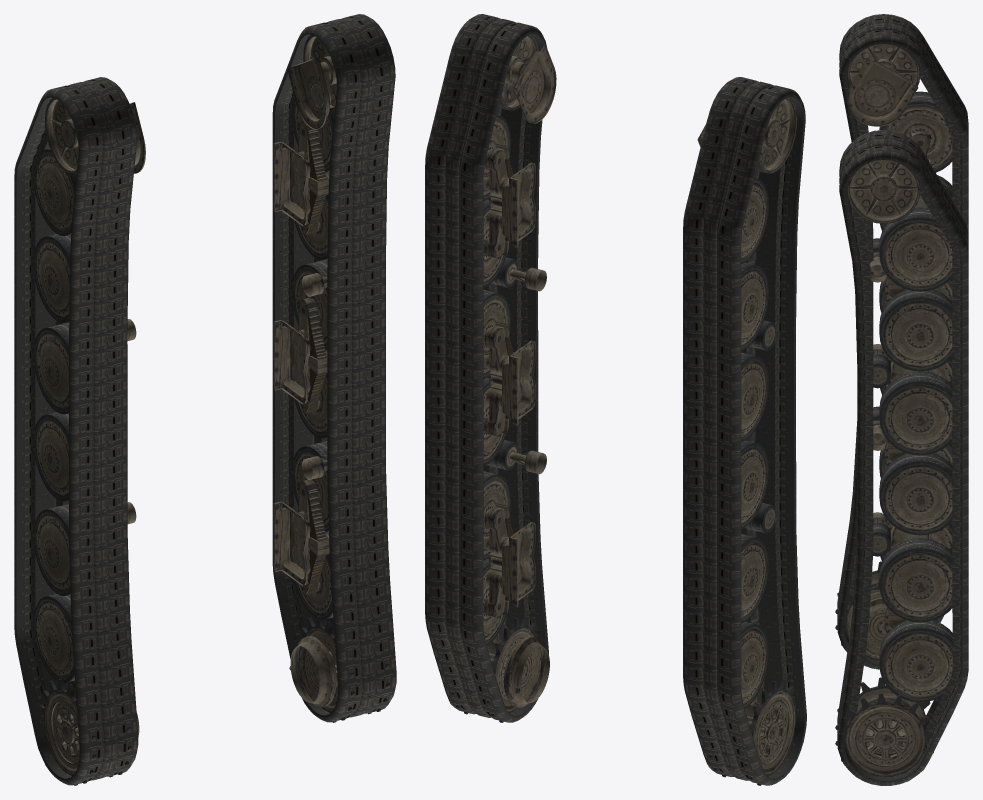
File: Chassis.glb
3 renders of one model, left to right at view 1: azimuth 30°, elevation 25°; view 2: azimuth 150°, elevation 25°; view 3: azimuth 270°, elevation 25°, orthographic. The views are drawn at different scales.
Parts seen in each view (by area): view 1: set_0_group_0, set_1_group_0, set_3_group_0, set_2_group_0; view 2: set_0_group_0, set_1_group_0, set_3_group_0, set_2_group_0; view 3: set_3_group_0, set_1_group_0, set_2_group_0, set_0_group_0.
Boxes of the visible parts, <box> form: set_0_group_0: <box>14,77,138,785</box>; set_1_group_0: <box>272,14,396,722</box>; set_3_group_0: <box>273,34,390,722</box>; set_2_group_0: <box>35,98,145,785</box>; set_0_group_0: <box>683,77,806,785</box>; set_1_group_0: <box>425,14,548,722</box>; set_3_group_0: <box>451,34,556,722</box>; set_2_group_0: <box>697,97,797,785</box>; set_3_group_0: <box>835,160,952,776</box>; set_1_group_0: <box>837,130,968,785</box>; set_2_group_0: <box>835,44,952,660</box>; set_0_group_0: <box>837,14,968,669</box>.
Bounding box in the file's own units: 3.37 × 7.08 × 1.34.
4 materials, 4 textured.
